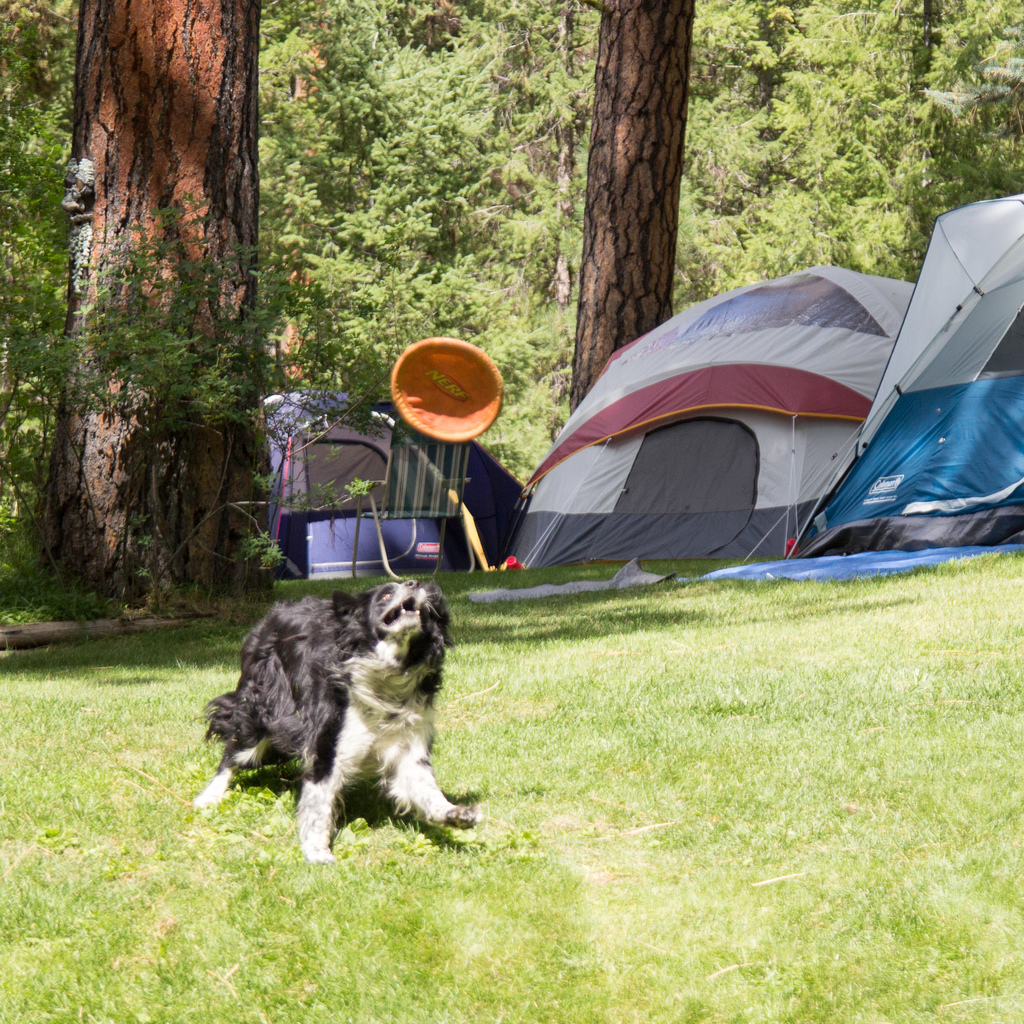Tree: (0, 0, 1024, 648)
